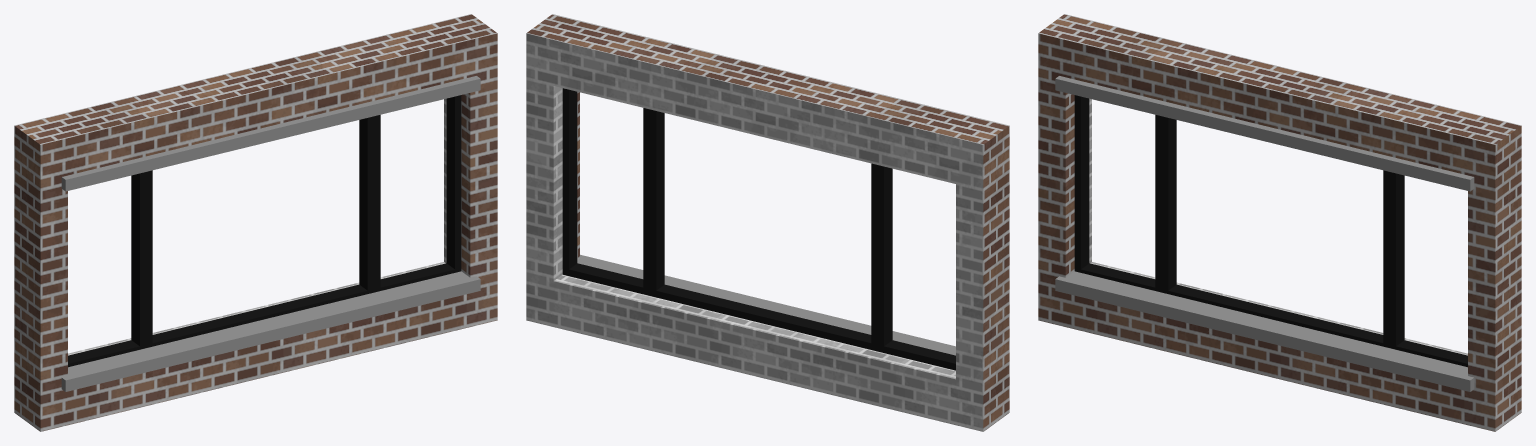
Rendered from Window_Wall_001.FBX.
3 renders of one model, left to right at view 1: azimuth 30°, elevation 25°; view 2: azimuth 150°, elevation 25°; view 3: azimuth 330°, elevation 25°, orthographic.
Visible parts, largest first — view 1: Window_Wall_001; view 2: Window_Wall_001; view 3: Window_Wall_001.
Part boxes in pixels (box(x1,y1,x2,y2)): Window_Wall_001: box(14, 14, 497, 431); Window_Wall_001: box(526, 14, 1009, 431); Window_Wall_001: box(1038, 14, 1521, 431).
Size of the model in its own units: 500 by 57.5 by 300.
